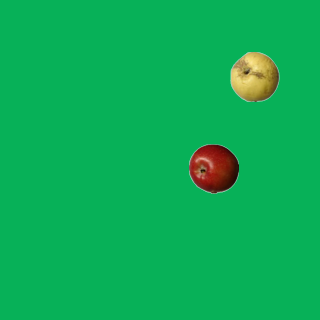Apple Braeburn: (188, 143, 238, 193)
Apple Golden 1: (229, 51, 279, 101)
